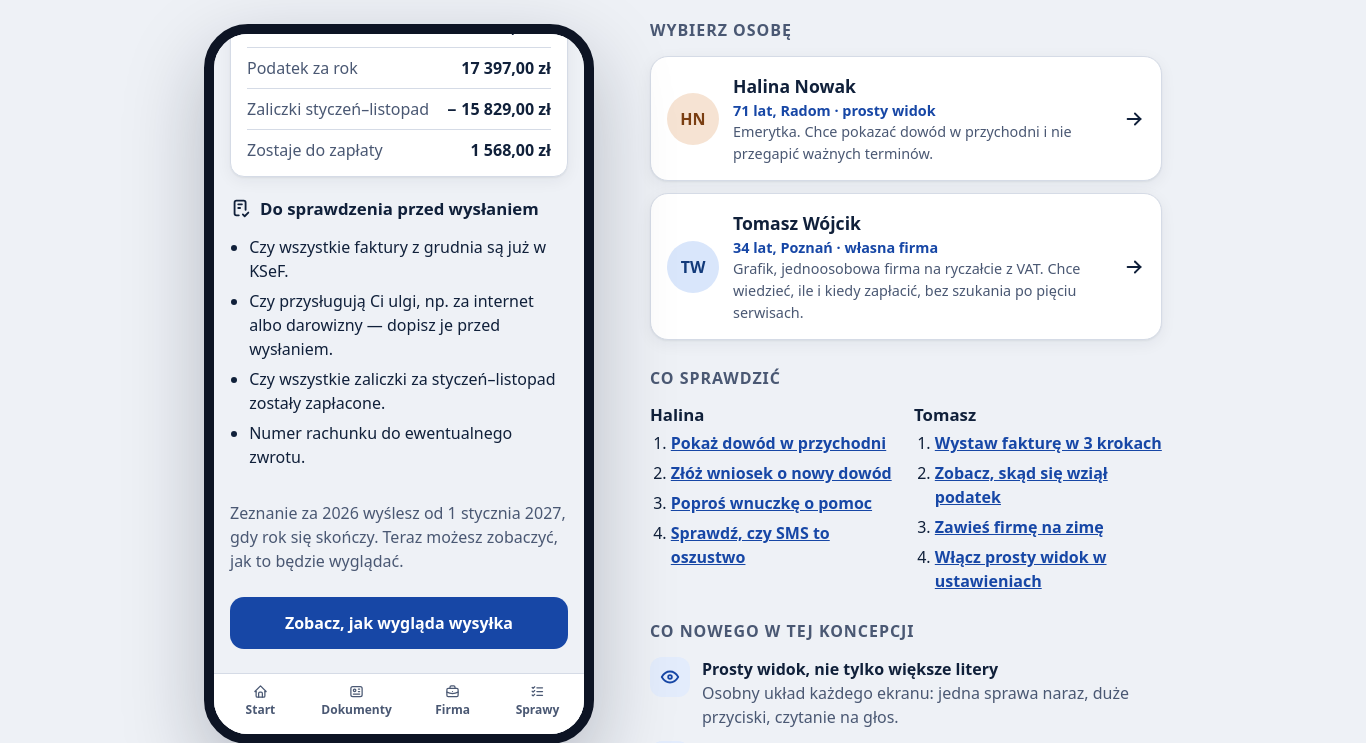
Test: widok zwykly › podgląd PIT-28 i wysyłka pokazowa
(page scrolled)
Expected: the heading "Do sprawdzenia przed wysłaniem" is shown, top-left (230, 197), bottom-right (568, 219)
Click the link "Zobacz, jak wygląda wysyłka" at coordinates (399, 623), box top-left (230, 597), bottom-right (568, 649)
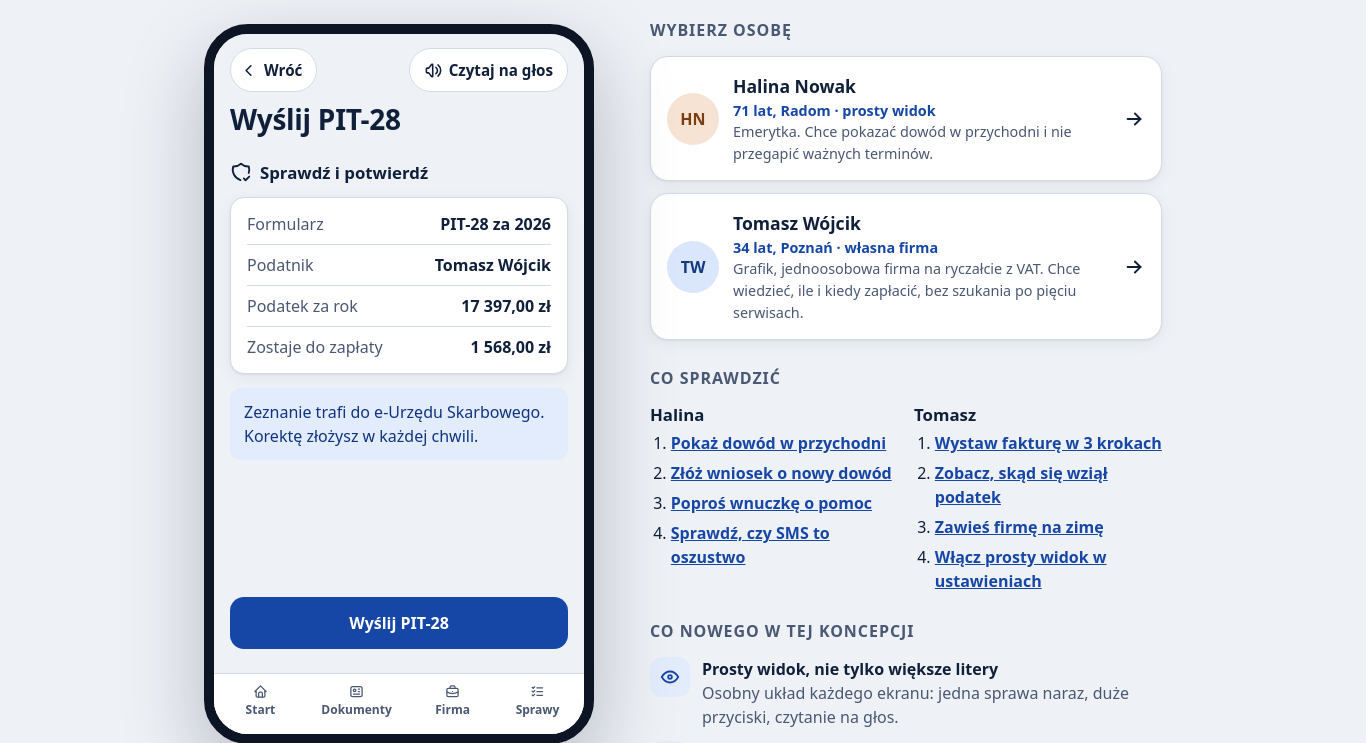
Click the button "Wyślij PIT-28" at coordinates (399, 623), box top-left (230, 597), bottom-right (568, 649)
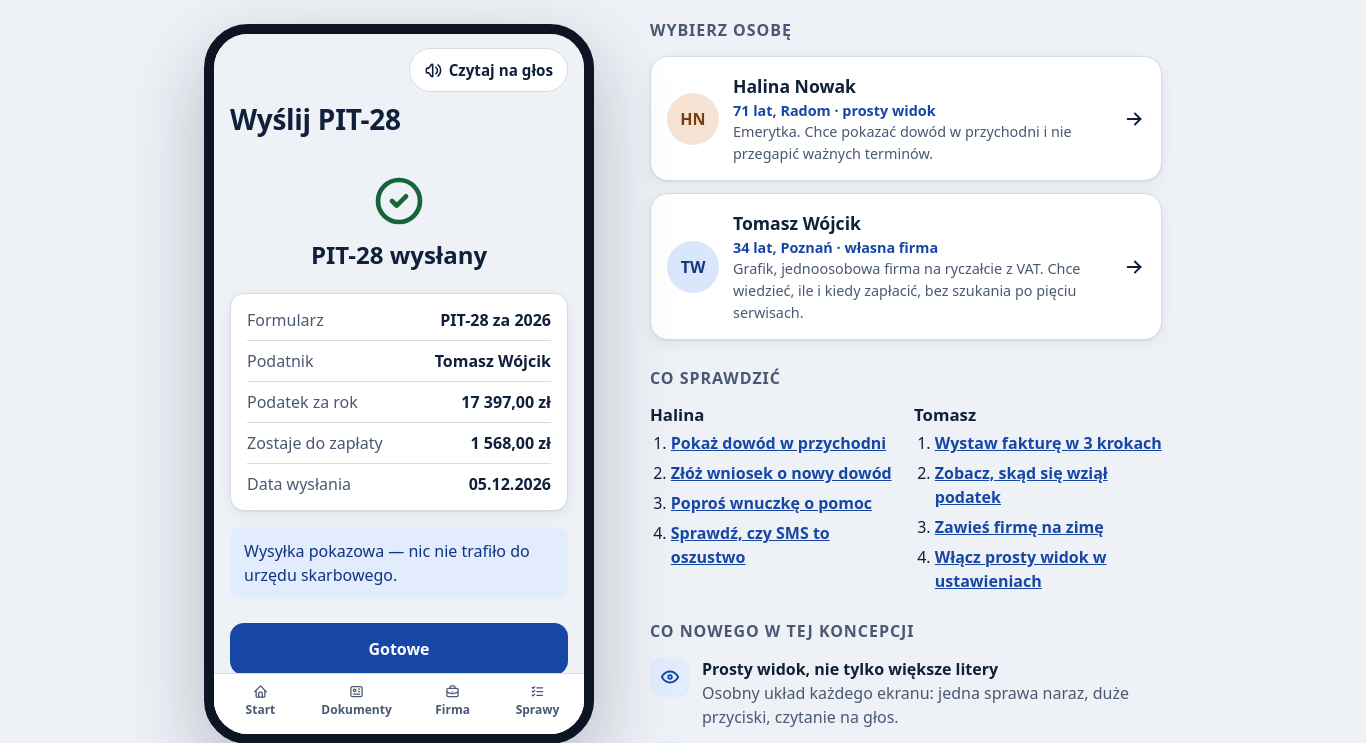
Expected: the message reads "PIT-28 wysłany", top-left (311, 238), bottom-right (487, 271)
Expected: the text "Wysyłka pokazowa — nic nie trafiło do urzędu skarbowego." is shown, top-left (230, 527), bottom-right (568, 599)
